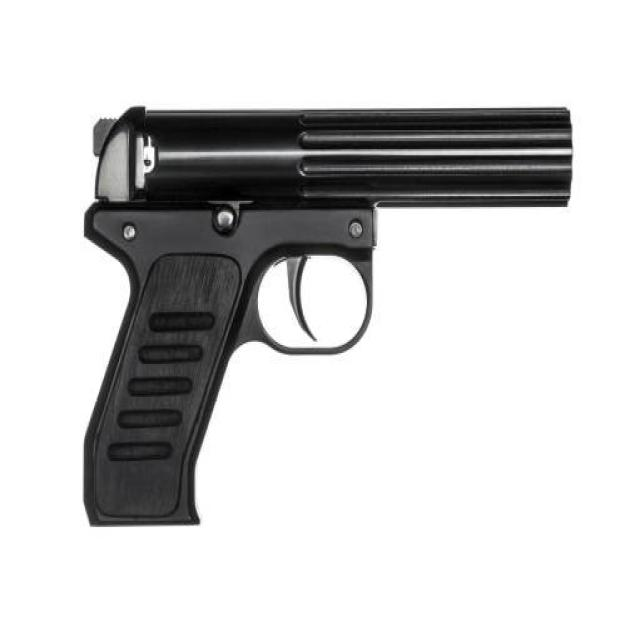pistol: (71, 100, 580, 541)
